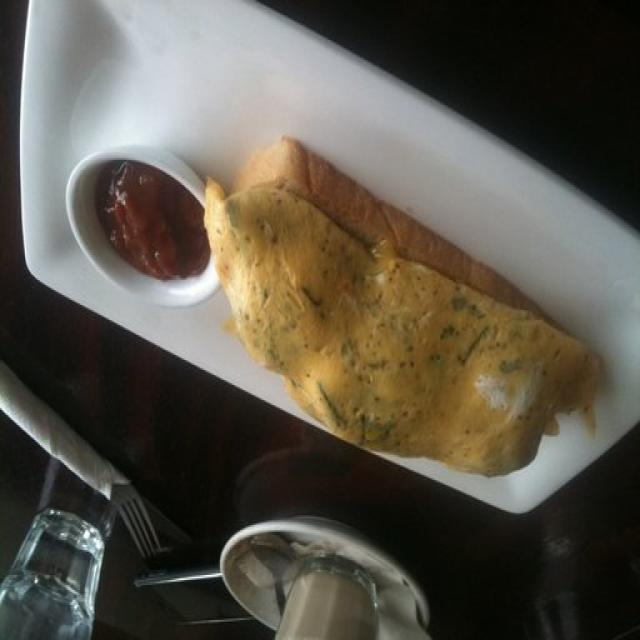telur_ayam_dadar: (198, 137, 598, 480)
